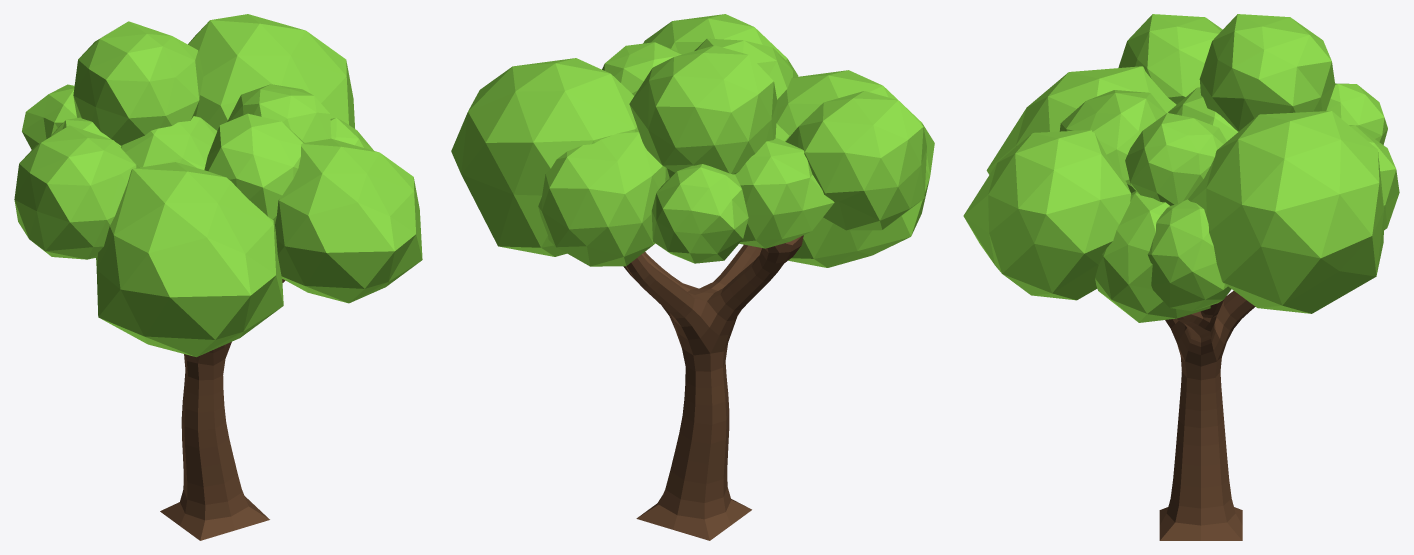
The model's file is tree.glb.
3 renders of one model, left to right at view 1: azimuth 30°, elevation 25°; view 2: azimuth 150°, elevation 25°; view 3: azimuth 270°, elevation 25°, orthographic. The views are drawn at different scales.
Parts seen in each view (by area): view 1: Plane; view 2: Plane; view 3: Plane.
Part boxes in pixels (x1,y1,x2,y2): Plane: [14, 14, 422, 540]; Plane: [451, 14, 934, 540]; Plane: [963, 14, 1399, 540].
Size of the model in its own units: 6.3 by 7.68 by 6.3.
1 material, 1 textured.
